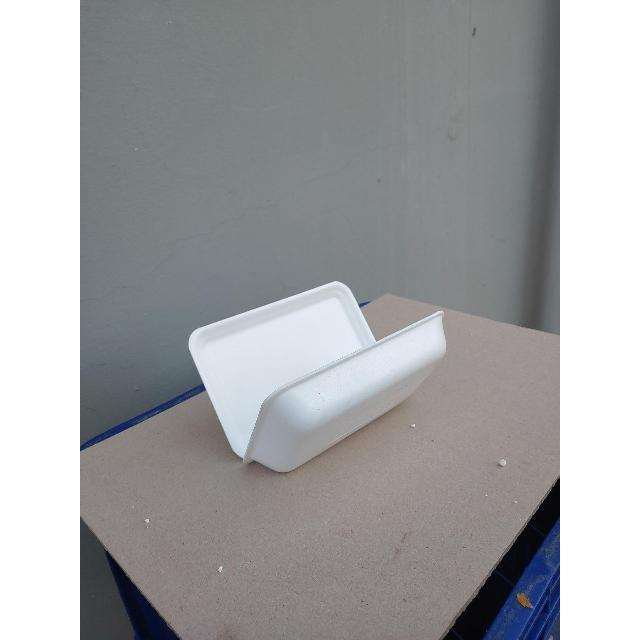Recipiente plastico: (190, 282, 446, 472)
